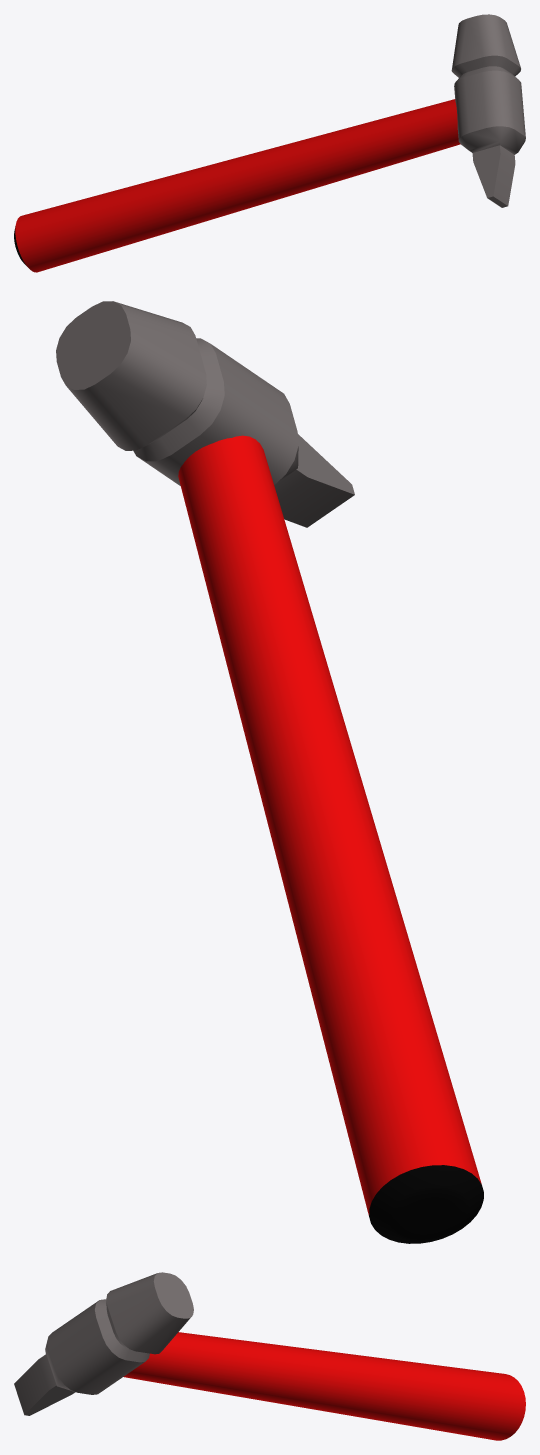
3 renders of one model, top to bottom at view 1: azimuth 30°, elevation 25°; view 2: azimuth 150°, elevation 25°; view 3: azimuth 270°, elevation 25°, orthographic. The views are drawn at different scales.
Parts seen in each view (by area): view 1: Cylinder.008; view 2: Cylinder.008; view 3: Cylinder.008.
Part boxes in pixels (<box>): Cylinder.008: <box>14,14,525,272</box>; Cylinder.008: <box>56,301,483,1243</box>; Cylinder.008: <box>14,1272,525,1440</box>.
Size of the model in its own units: 227 by 179 by 251.
